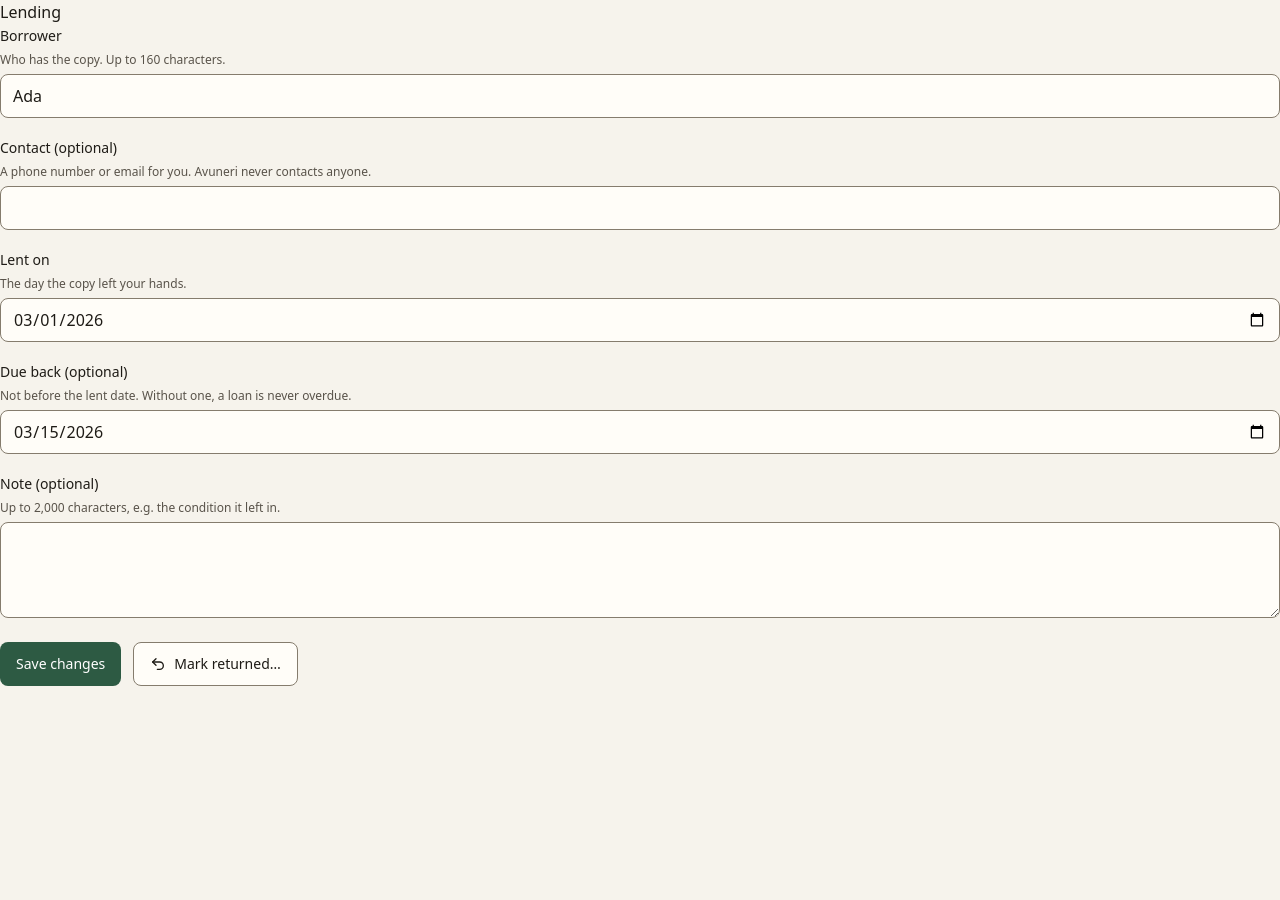
LoanEditor › reports a return recorded elsewhere on another day, without retrying
Step 1. Click the button "Mark returned…" → {"x": 216, "y": 664}, box [133,642,298,686]
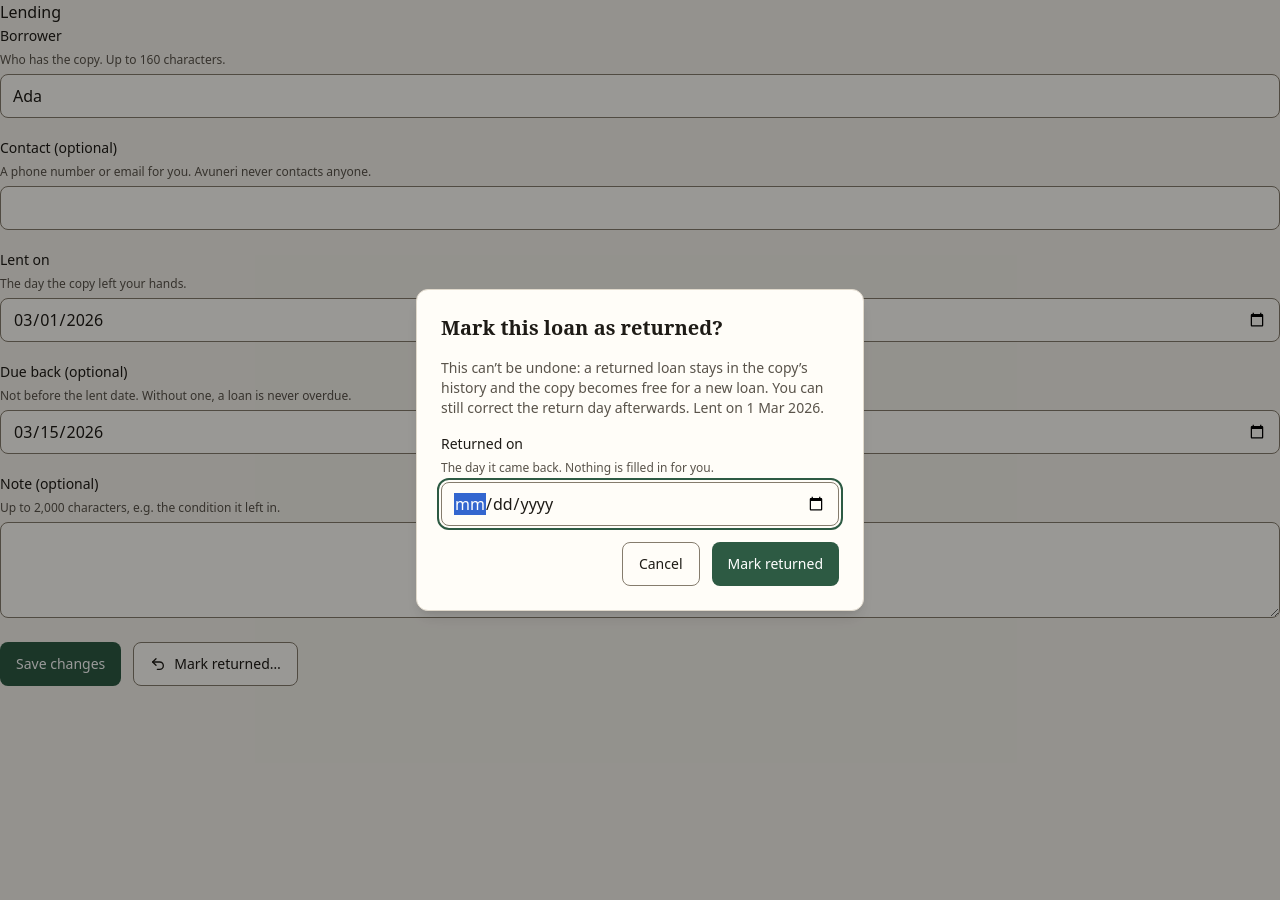
Step 2. Type "2026-03-10" into the date field labelled "Returned on" → {"x": 640, "y": 504}, box [441,482,839,526]
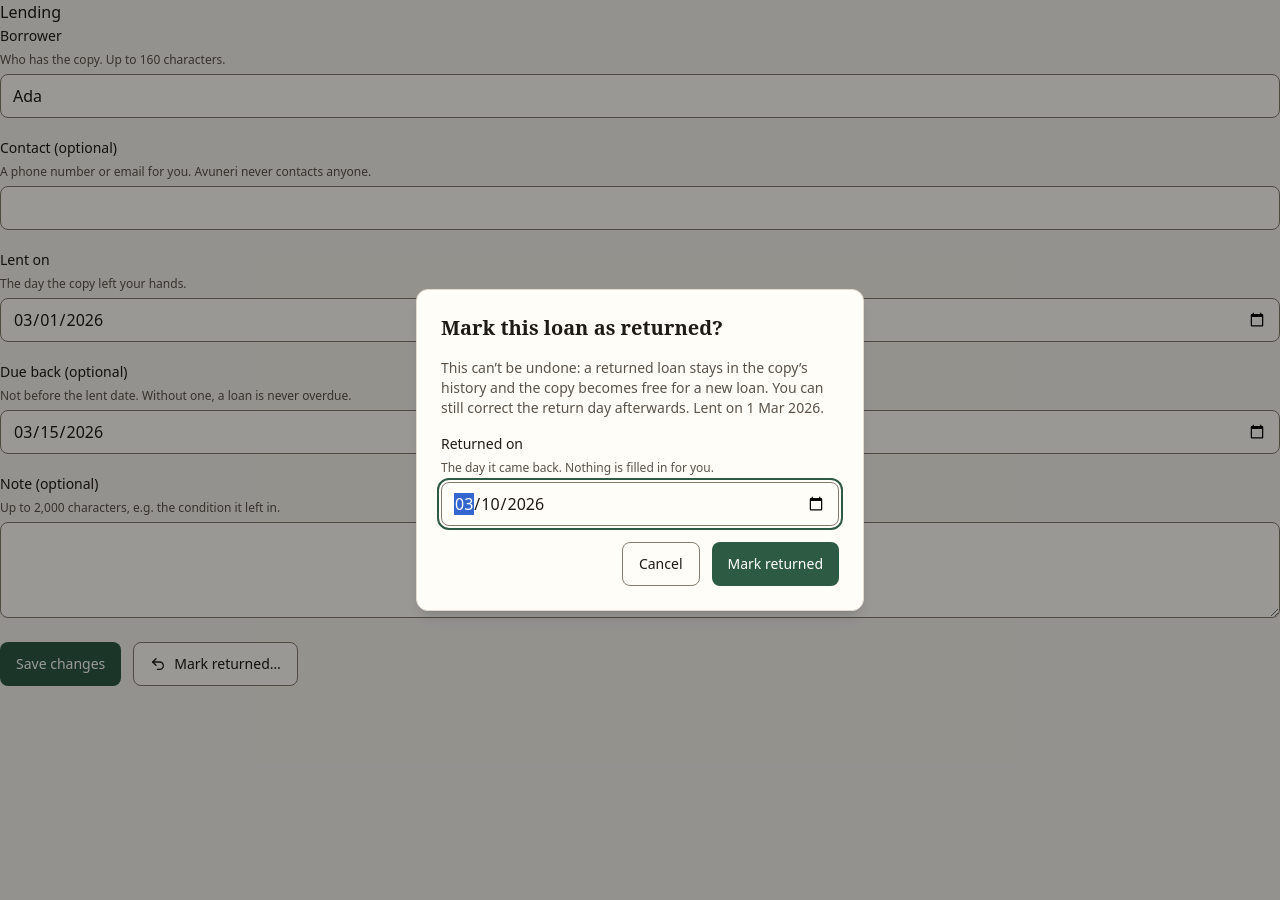
Step 3. Click the button "Mark returned" → {"x": 775, "y": 564}, box [712,542,839,586]
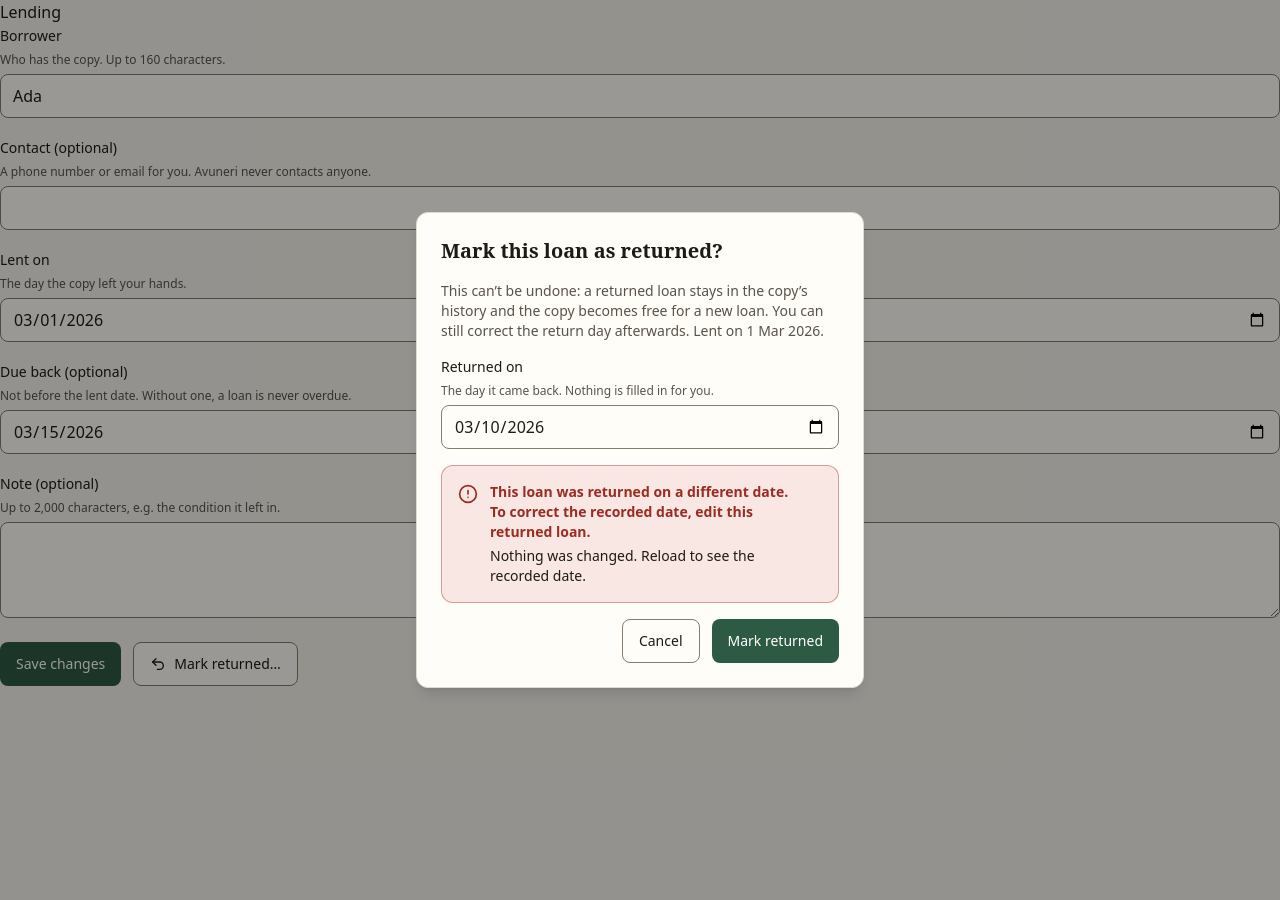
Expected: the text "returned on a different date" is shown, [490,482,788,541]
